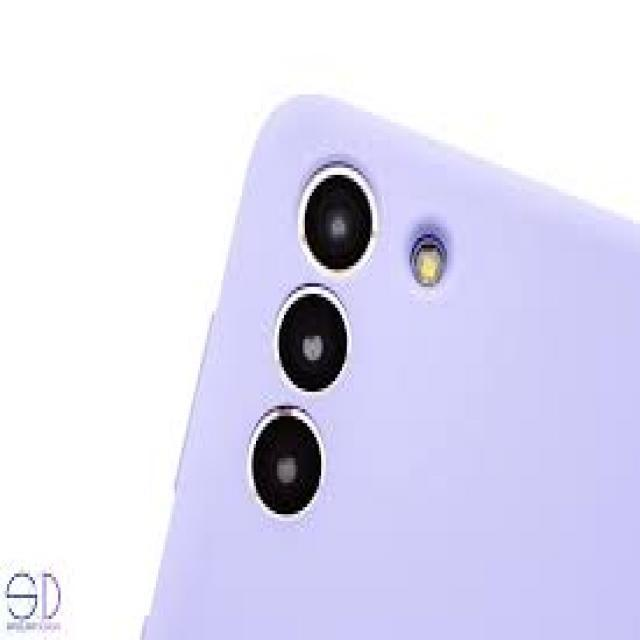lens: (214, 127, 413, 558)
phone: (140, 95, 639, 639)
